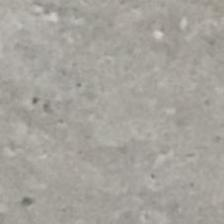Non_Crack: (22, 7, 220, 215)
